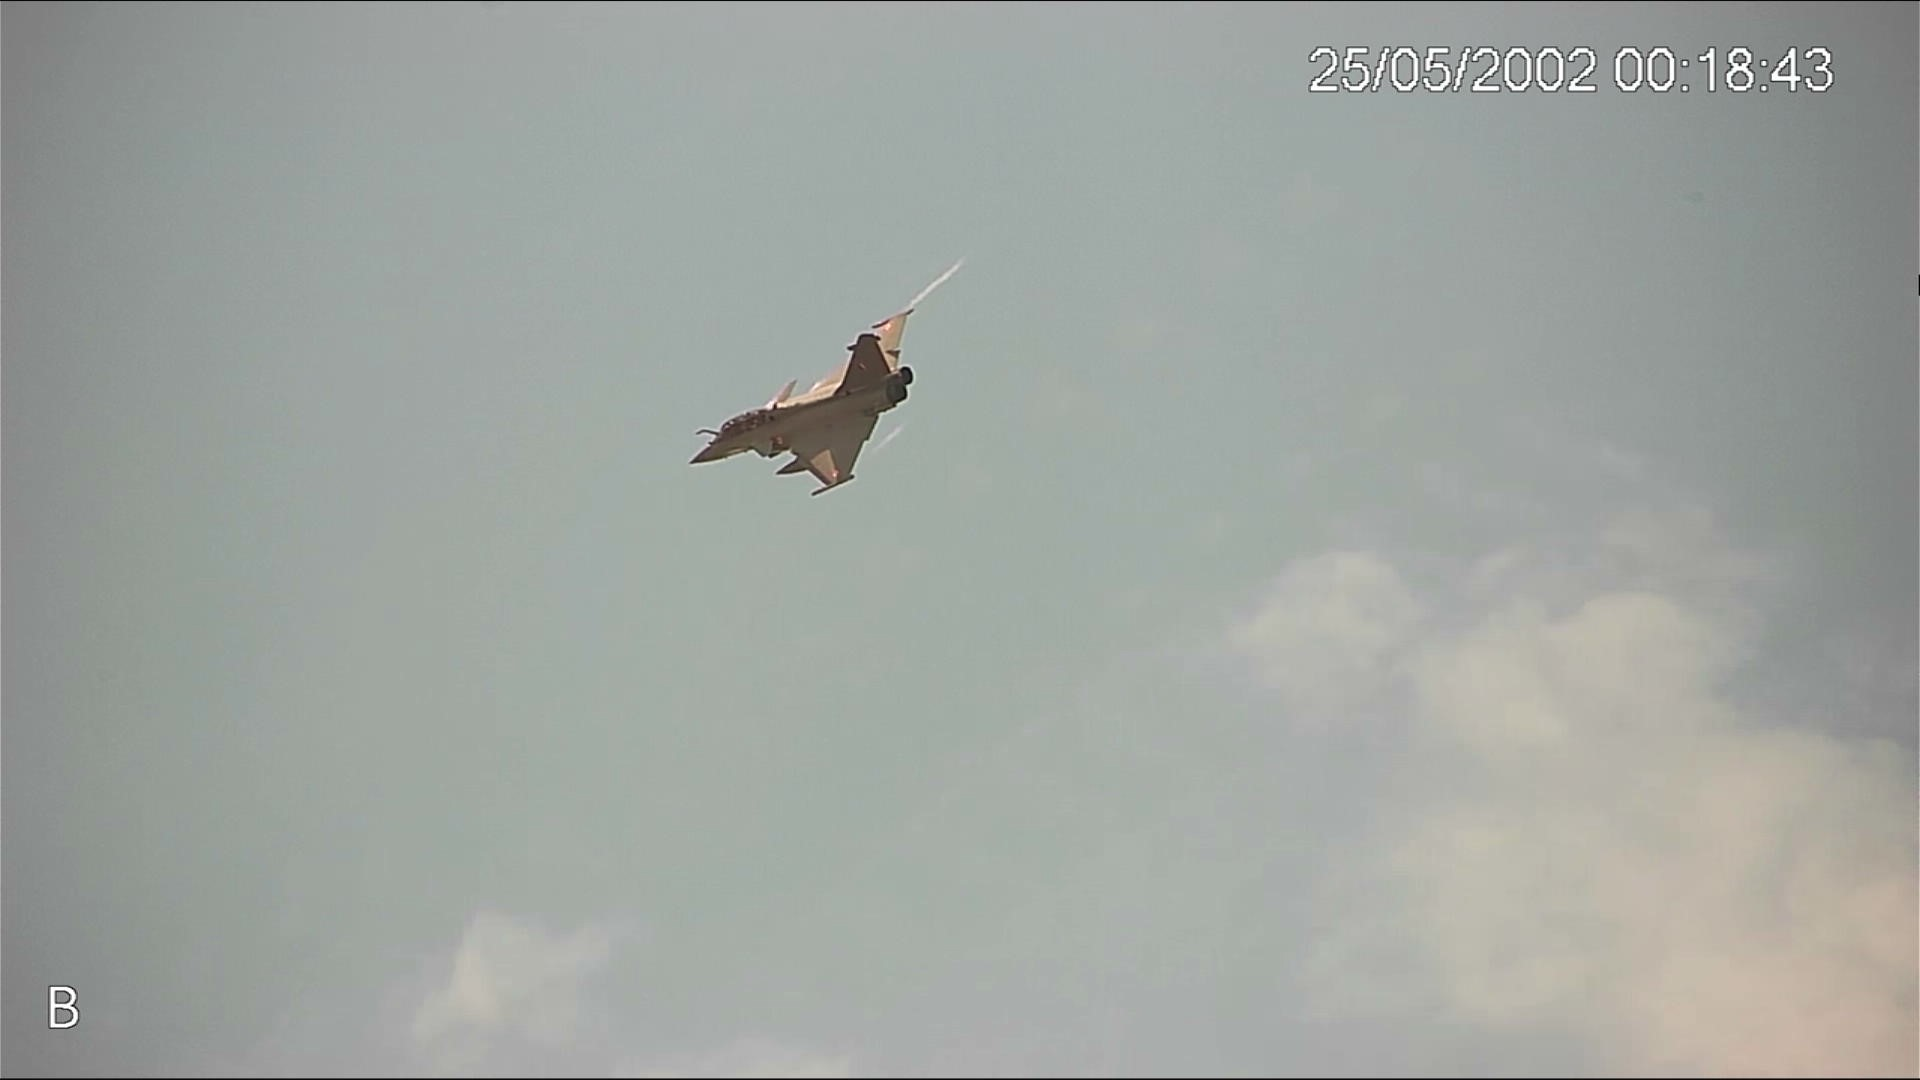SU_30: (684, 306, 920, 498)
